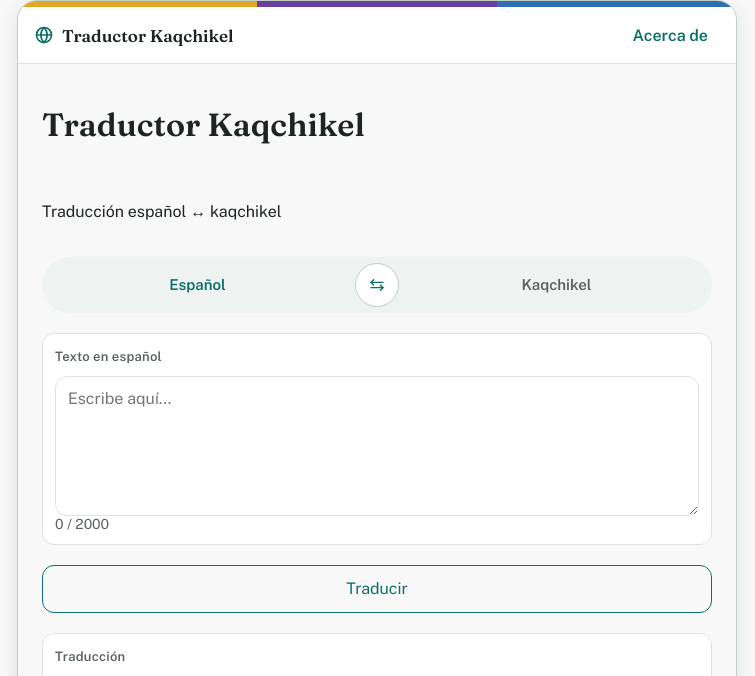
App translate flow › shows a network error message with a retry button on a fetch failure
This screenshot has width=755, height=676.
Type "Hola" into the text box named "Texto en " at (377, 446), box [55, 376, 699, 516]
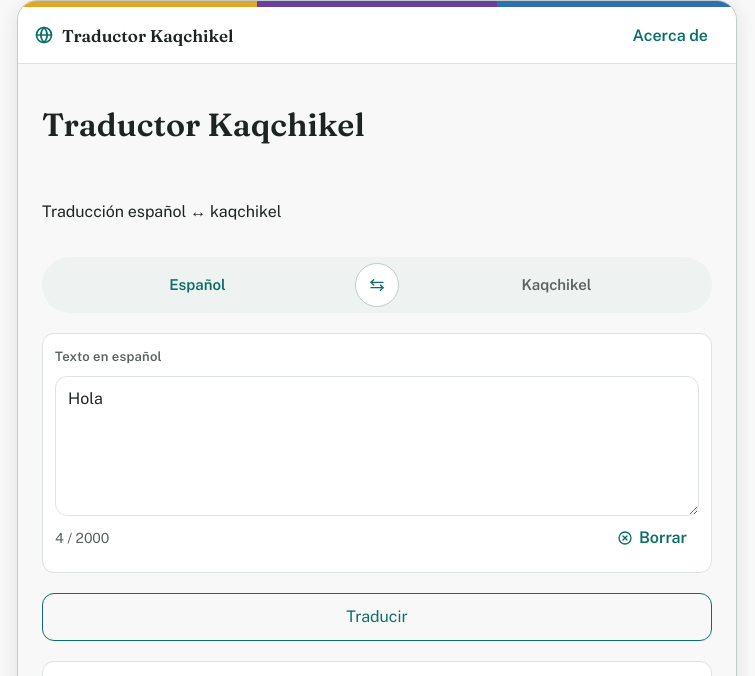
Click the button "Traducir" at (377, 617), box [42, 593, 712, 641]
(page scrolled)
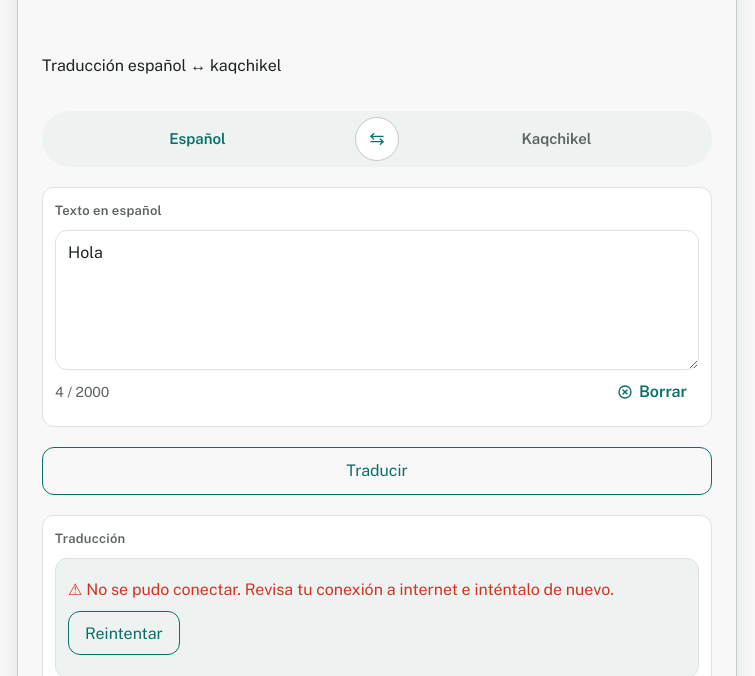
Expected: the text "No se pudo conectar. Revisa tu conexión a internet e inténtalo de nuevo." is shown, [86, 580, 614, 599]
Expected: the button "Reintentar" is shown, [68, 611, 180, 655]
